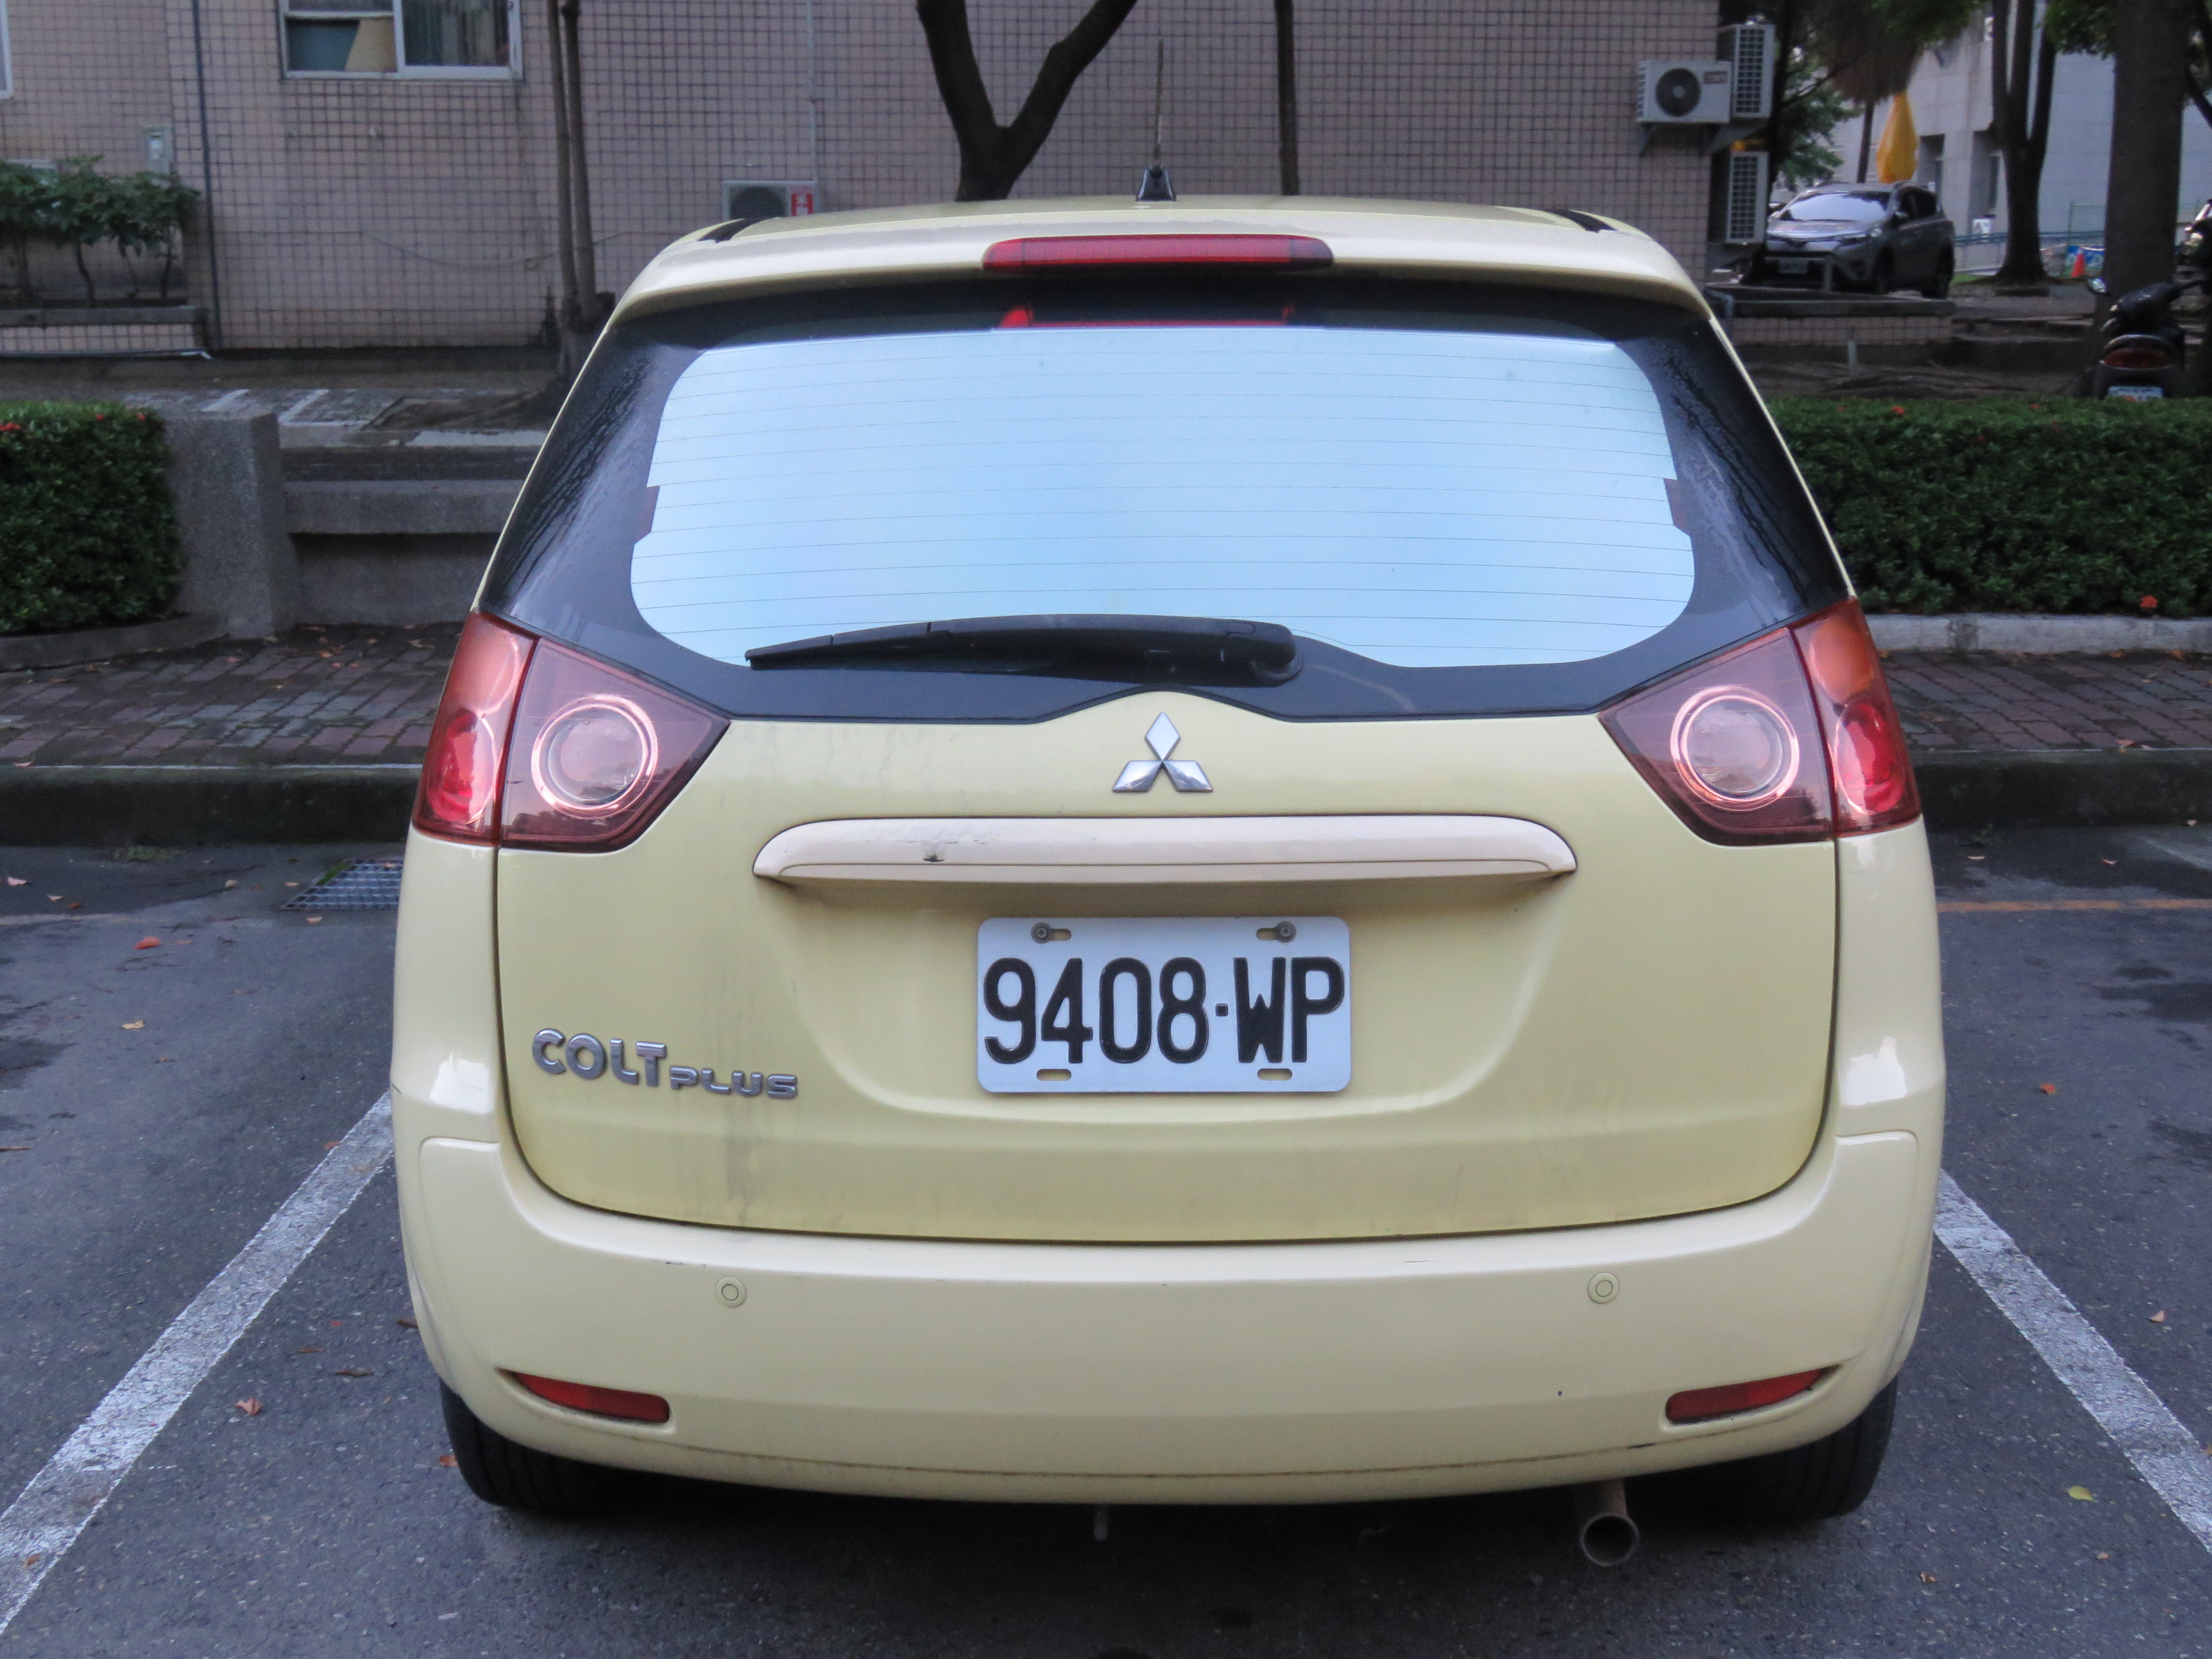car: (381, 183, 1949, 1535)
car_card: (977, 915, 1352, 1100)
